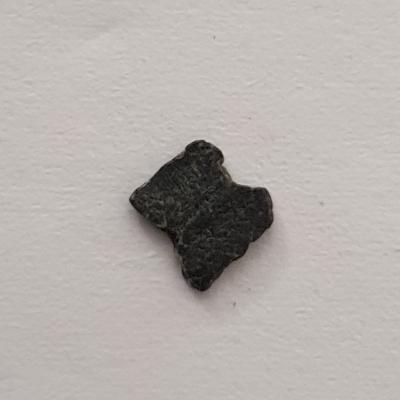plastic: (121, 138, 279, 299)
